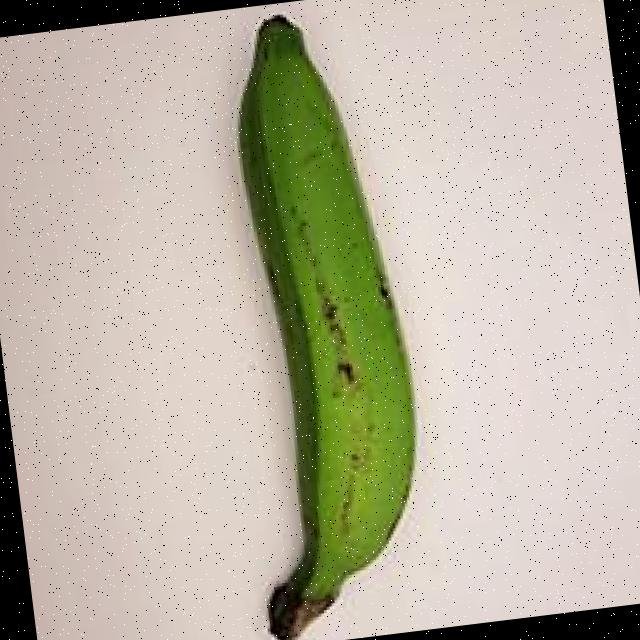Raw: (139, 0, 474, 640)
